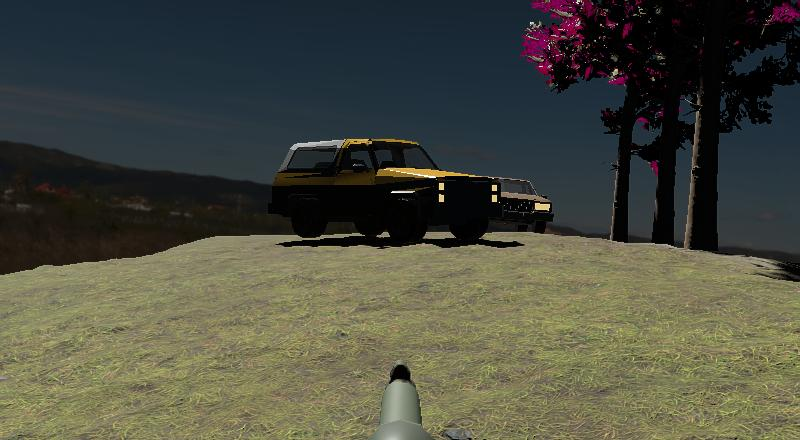car: (267, 135, 498, 247), (267, 135, 497, 246), (483, 174, 557, 236)
